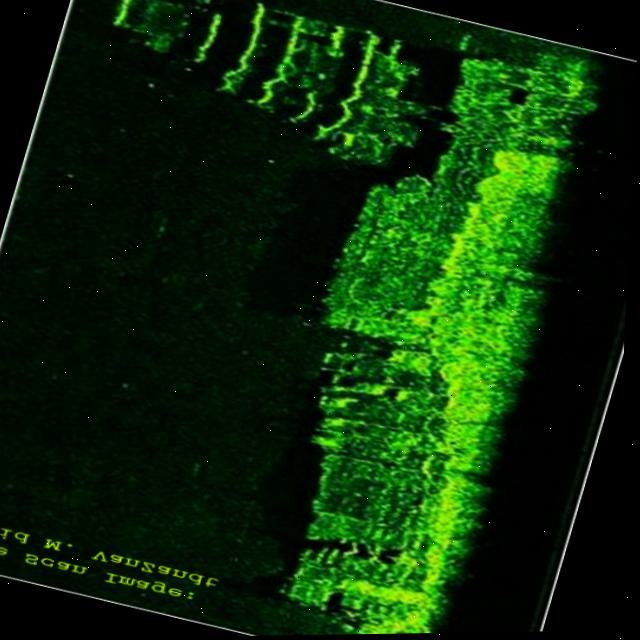shipwreck: (253, 33, 625, 637), (81, 0, 446, 182)
